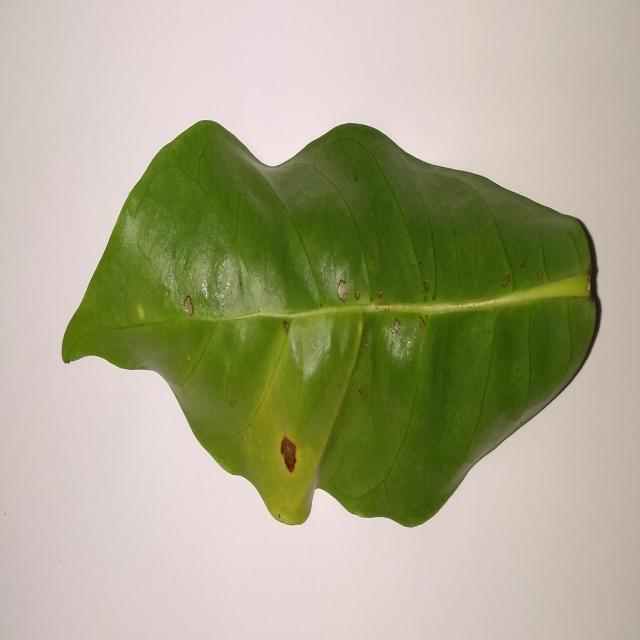Enfermedad-Mancha-de-hierro: (60, 121, 603, 531)
